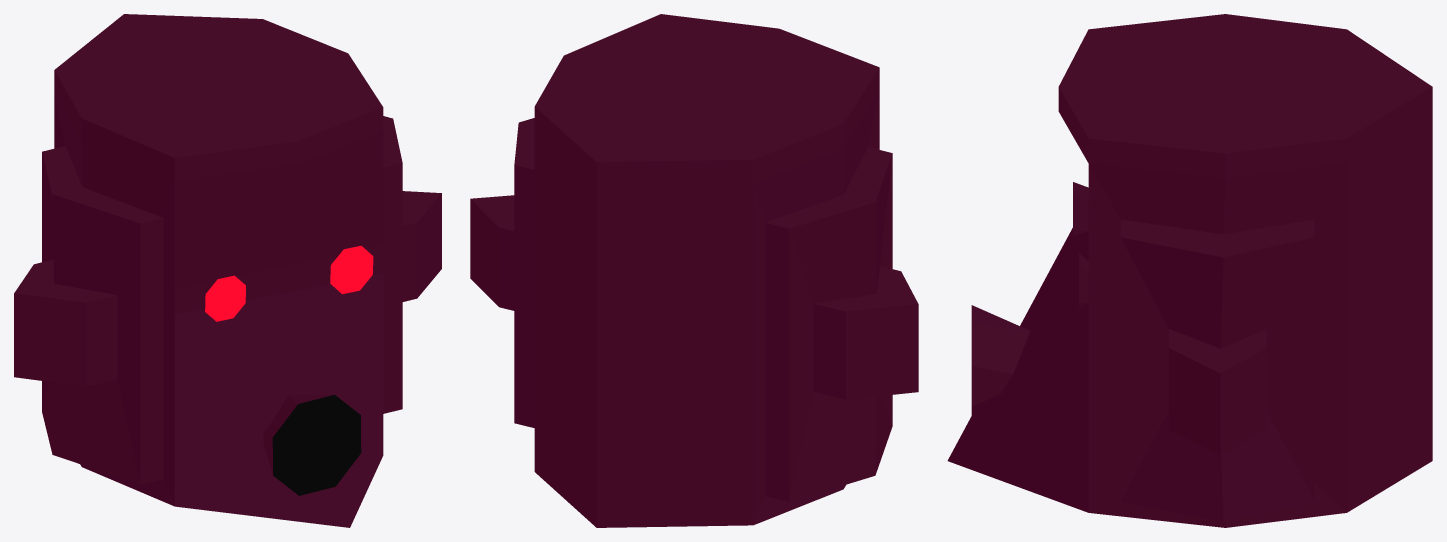
File: ShadowHead.glb
3 views of the same model, side by side, from view 1: azimuth 30°, elevation 25°; view 2: azimuth 150°, elevation 25°; view 3: azimuth 270°, elevation 25° (orthographic). The views are drawn at different scales.
Parts seen in each view (by area): view 1: ShadowHead; view 2: ShadowHead; view 3: ShadowHead.
Boxes of the visible parts, x1,y1,x2,y2 form: ShadowHead: (14,14,441,527); ShadowHead: (470,14,918,527); ShadowHead: (947,14,1432,527).
Bounding box in the file's own units: 0.7775 × 0.6326 × 0.7117.
